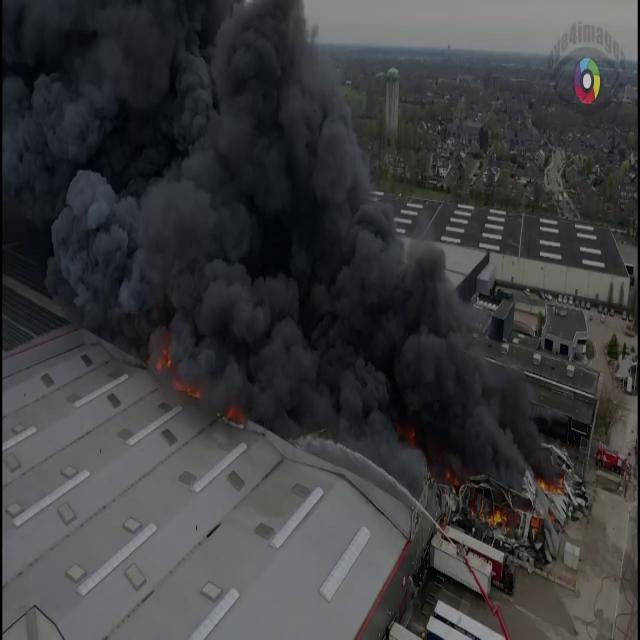Smoke: (0, 0, 533, 454)
